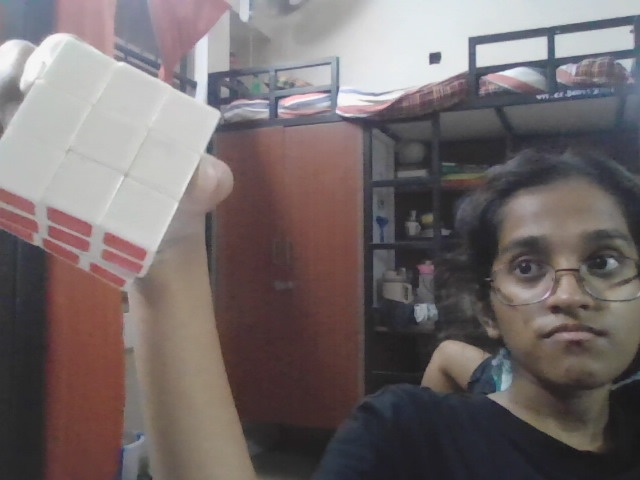rubiks_cube: (0, 33, 219, 252)
